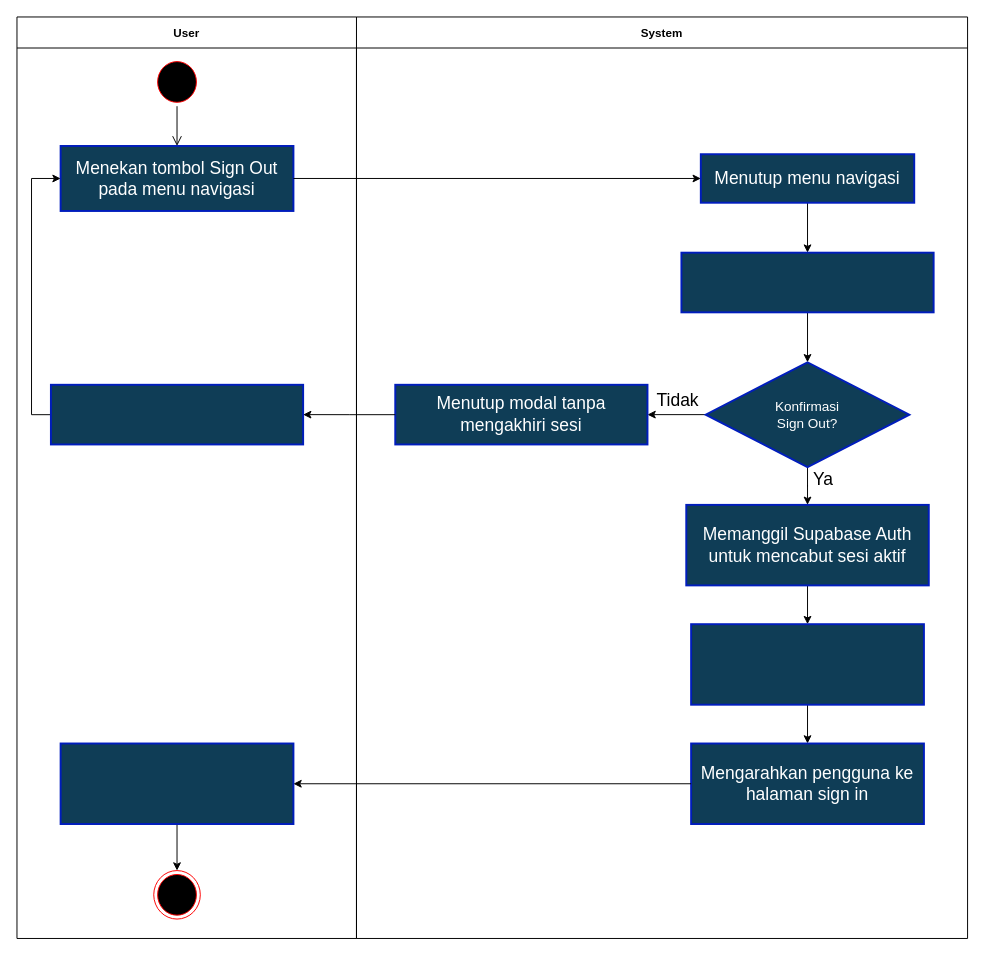
Some shapes in this 985 by 955 pixel diagram are drawn without their labels. Each missing label, with the centre of its shape:
Dialihkan ke halaman sign in: pixel 176 783
Menampilkan modal dialog konfimasi Sign Out: pixel 807 282
Menghapus data user & session dari AuthContext: pixel 807 664
Tetap berada pada halaman saat ini: pixel 176 414
